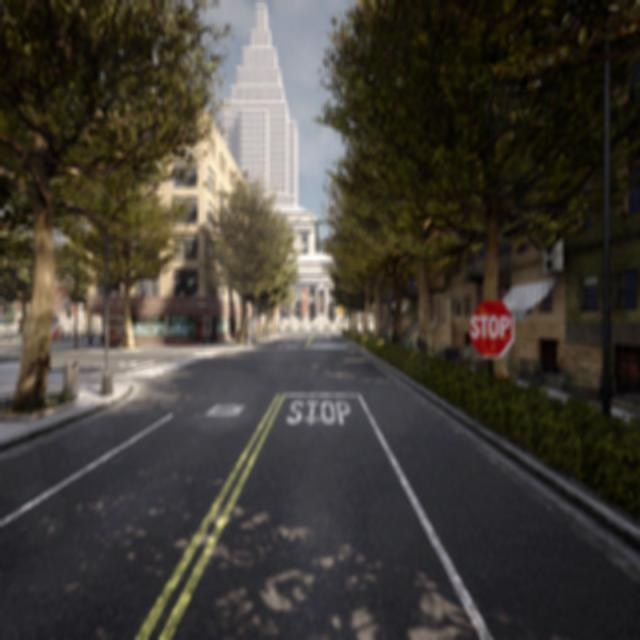stop sign: (465, 294, 517, 362), (469, 312, 511, 341)
